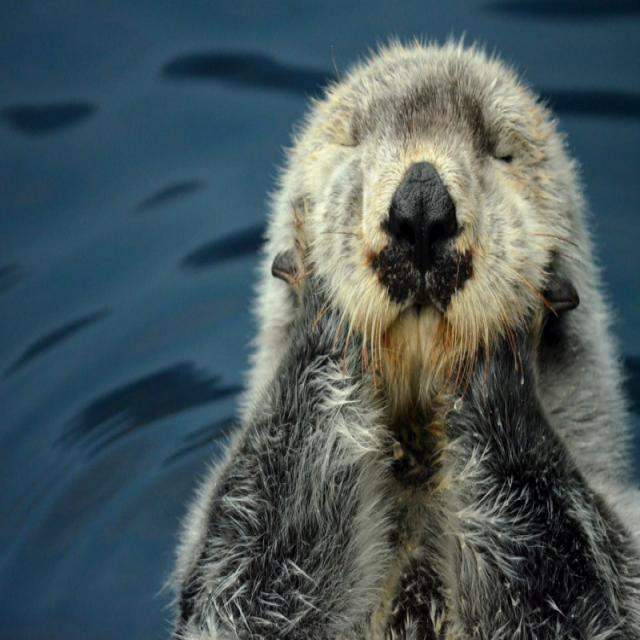otter: (186, 47, 640, 640)
